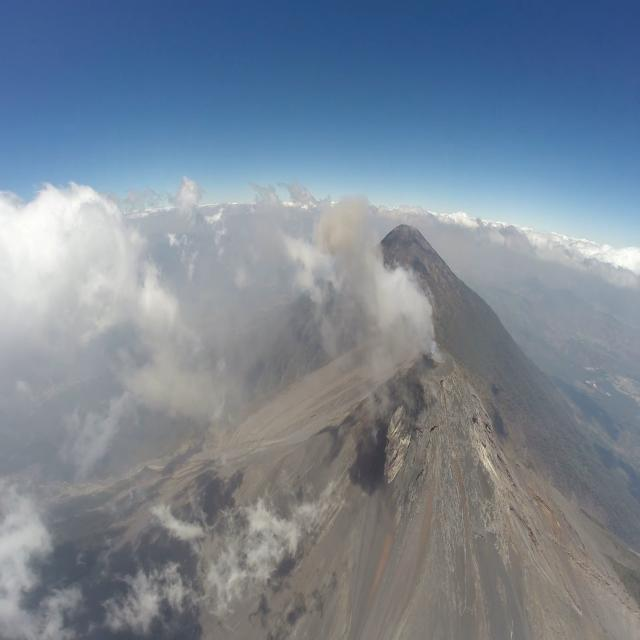Plume: (317, 191, 441, 342)
Summit: (368, 342, 512, 484)
